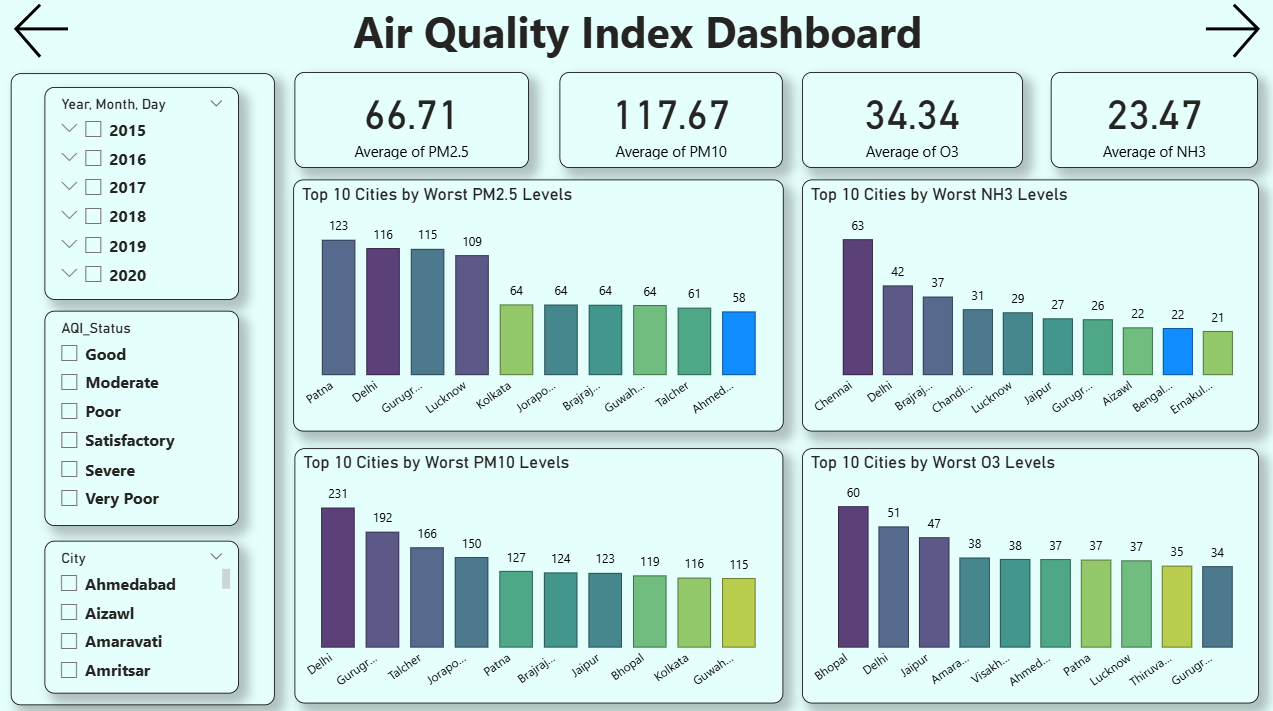

The dashboard page shown, as its layout file describes it:
{"tool":"powerbi","page":{"name":"Page 3","canvas":[1280,720],"ordinal":2},"visuals":[{"type":"textbox","box":[131.2,0,1018.8,67.5],"z":0},{"type":"actionButton","box":[0,0,90,67.5],"z":1000},{"type":"actionButton","box":[1190,0,90,67.5],"z":2000},{"type":"shape","box":[13.5,75.8,264.1,632.2],"z":3000},{"type":"slicer","fields":{"Values":["In.Date.Variation.Date Hierarchy.Year","In.Date.Variation.Date Hierarchy.Month","In.Date.Variation.Date Hierarchy.Day"]},"box":[47.7,90.5,194.4,212.8],"z":4000},{"type":"slicer","fields":{"Values":["In.AQI_Status"]},"box":[47.7,314.3,194.4,215.2],"z":5000},{"type":"slicer","fields":{"Values":["In.City"]},"box":[47.7,544.2,194.4,152.9],"z":6000},{"type":"card","fields":{"Values":["Avg(In.PM2.5)"]},"box":[297.5,75.3,234.6,96.3],"z":7000},{"type":"card","fields":{"Values":["Avg(In.PM10)"]},"box":[563,75.3,223.5,96.3],"z":8000},{"type":"card","fields":{"Values":["Avg(In.NH3)"]},"box":[1054.3,75.3,207.4,96.3],"z":9000},{"type":"card","fields":{"Values":["Avg(In.O3)"]},"box":[804.9,75.3,221,96.3],"z":10000},{"type":"columnChart","title":"Top 10 Cities by Worst PM2.5 Levels","fields":{"Category":["In.City"],"Y":["Avg(In.PM2.5)"]},"box":[296.3,182.7,490.1,251.9],"z":11000},{"type":"columnChart","title":"Top 10 Cities by Worst PM10 Levels","fields":{"Category":["In.City"],"Y":["Avg(In.PM10)"]},"box":[297.5,451.9,488.9,255.6],"z":12000},{"type":"columnChart","title":"Top 10 Cities by Worst O3 Levels","fields":{"Category":["In.City"],"Y":["Avg(In.O3)"]},"box":[804.9,451.9,456.8,255.6],"z":13000},{"type":"columnChart","title":"Top 10 Cities by Worst NH3 Levels","fields":{"Category":["In.City"],"Y":["Avg(In.NH3)"]},"box":[804.9,182.7,456.8,251.9],"z":14000}]}

Visuals, with their boxes in screenshot pixels (x1, y1, x2, y2), scaled from the page's 1280x720 canvas onto the 1273x711 screenshot:
textbox: x1=130, y1=0, x2=1144, y2=67
actionButton: x1=0, y1=0, x2=90, y2=67
actionButton: x1=1183, y1=0, x2=1272, y2=67
shape: x1=13, y1=75, x2=276, y2=699
slicer - In.Date.Variation.Date Hierarchy.Year x In.Date.Variation.Date Hierarchy.Month: x1=47, y1=89, x2=241, y2=300
slicer - In.AQI_Status: x1=47, y1=310, x2=241, y2=523
slicer - In.City: x1=47, y1=537, x2=241, y2=688
card - Avg(In.PM2.5): x1=296, y1=74, x2=529, y2=169
card - Avg(In.PM10): x1=560, y1=74, x2=782, y2=169
card - Avg(In.NH3): x1=1049, y1=74, x2=1255, y2=169
card - Avg(In.O3): x1=800, y1=74, x2=1020, y2=169
"Top 10 Cities by Worst PM2.5 Levels" columnChart: x1=295, y1=180, x2=782, y2=429
"Top 10 Cities by Worst PM10 Levels" columnChart: x1=296, y1=446, x2=782, y2=699
"Top 10 Cities by Worst O3 Levels" columnChart: x1=800, y1=446, x2=1255, y2=699
"Top 10 Cities by Worst NH3 Levels" columnChart: x1=800, y1=180, x2=1255, y2=429
